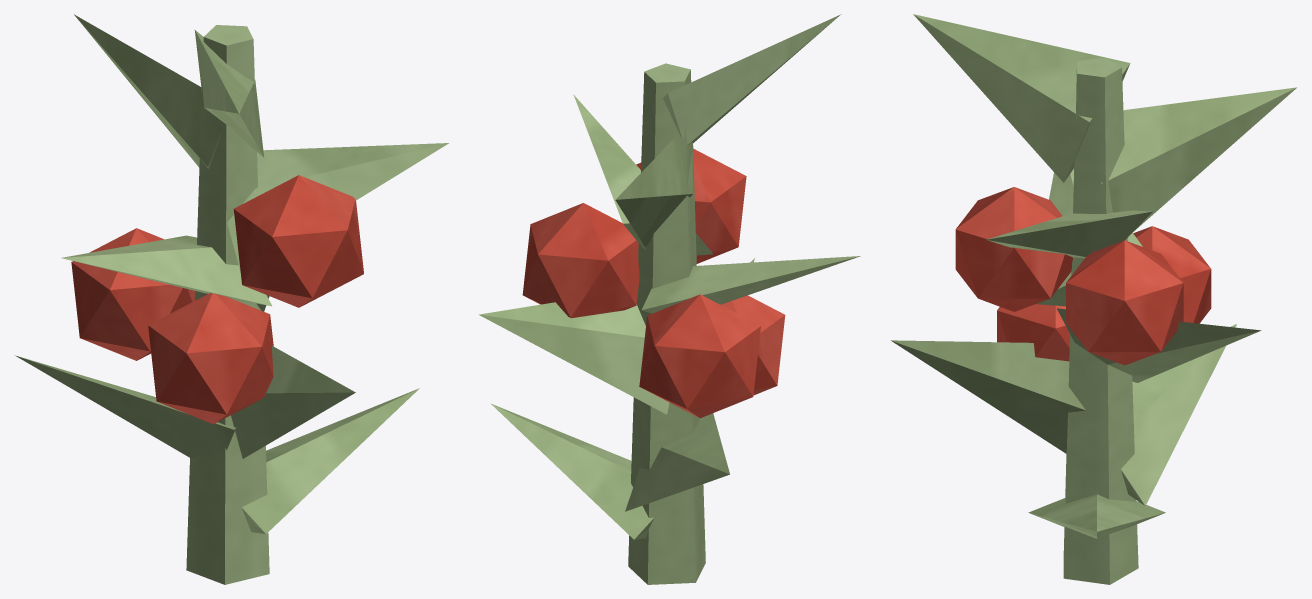
Rendered from sm_crop_tomato_4.glb.
The picture shows the model from 3 angles, left to right: view 1: azimuth 30°, elevation 25°; view 2: azimuth 150°, elevation 25°; view 3: azimuth 270°, elevation 25°; orthographic projection. The views are drawn at different scales.
Visible parts, largest first — view 1: sm_crop_tomato_4; view 2: sm_crop_tomato_4; view 3: sm_crop_tomato_4.
Boxes of the visible parts, x1,y1,x2,y2 form: sm_crop_tomato_4: [15, 14, 448, 584]; sm_crop_tomato_4: [479, 14, 860, 584]; sm_crop_tomato_4: [891, 14, 1296, 584].
Size of the model in its own units: 0.2983 by 0.4104 by 0.2949.
1 material, 1 textured.
